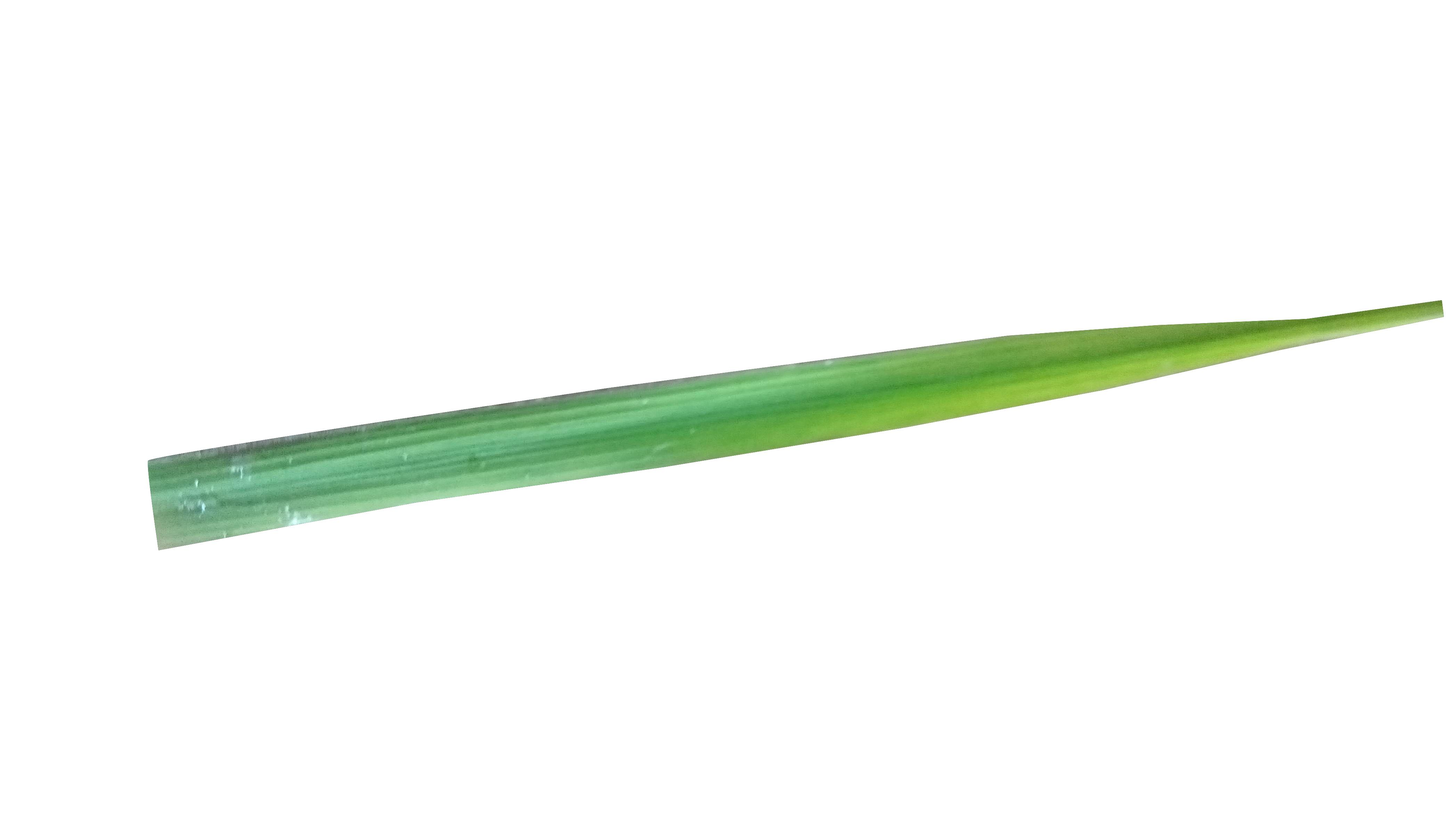Tungro: (674, 327, 1347, 459)
